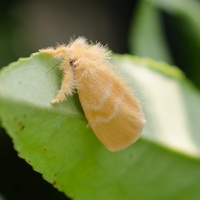insect: (40, 37, 144, 150)
